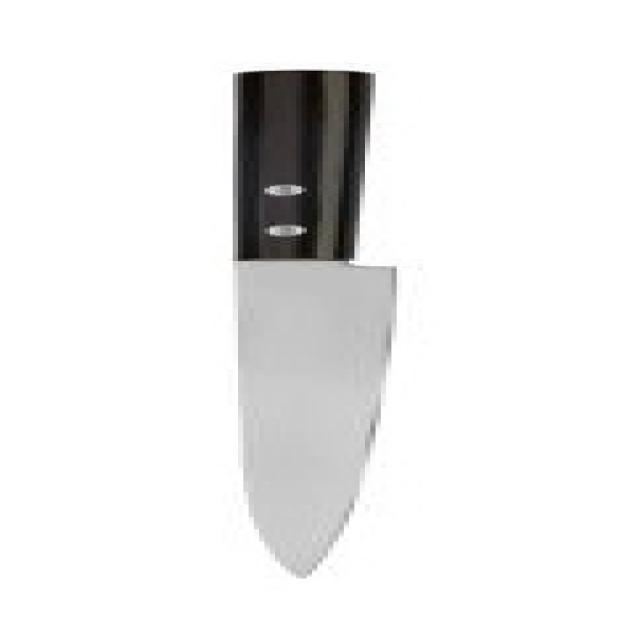knife: (169, 56, 421, 584)
